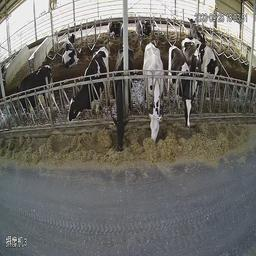cow: (67, 46, 110, 126), (110, 43, 135, 154), (11, 65, 54, 123), (143, 45, 166, 146), (167, 43, 193, 127), (201, 38, 232, 93), (192, 38, 207, 108), (64, 24, 81, 67), (135, 13, 153, 39), (106, 16, 124, 41)
